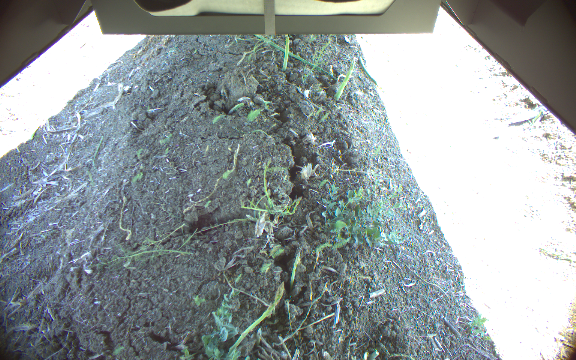aspa: (229, 280, 285, 356), (334, 57, 357, 101), (291, 251, 301, 289), (280, 35, 290, 70)
